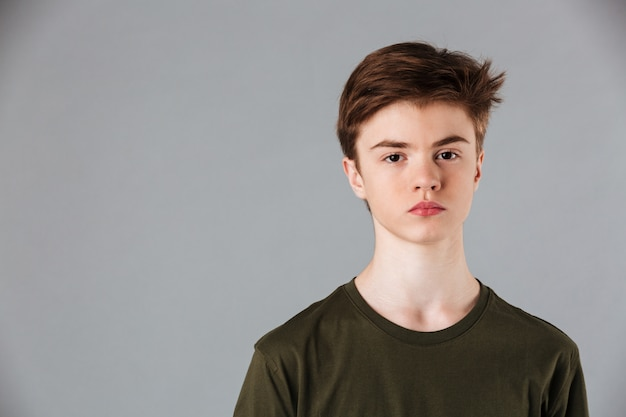teen: (325, 32, 512, 278)
